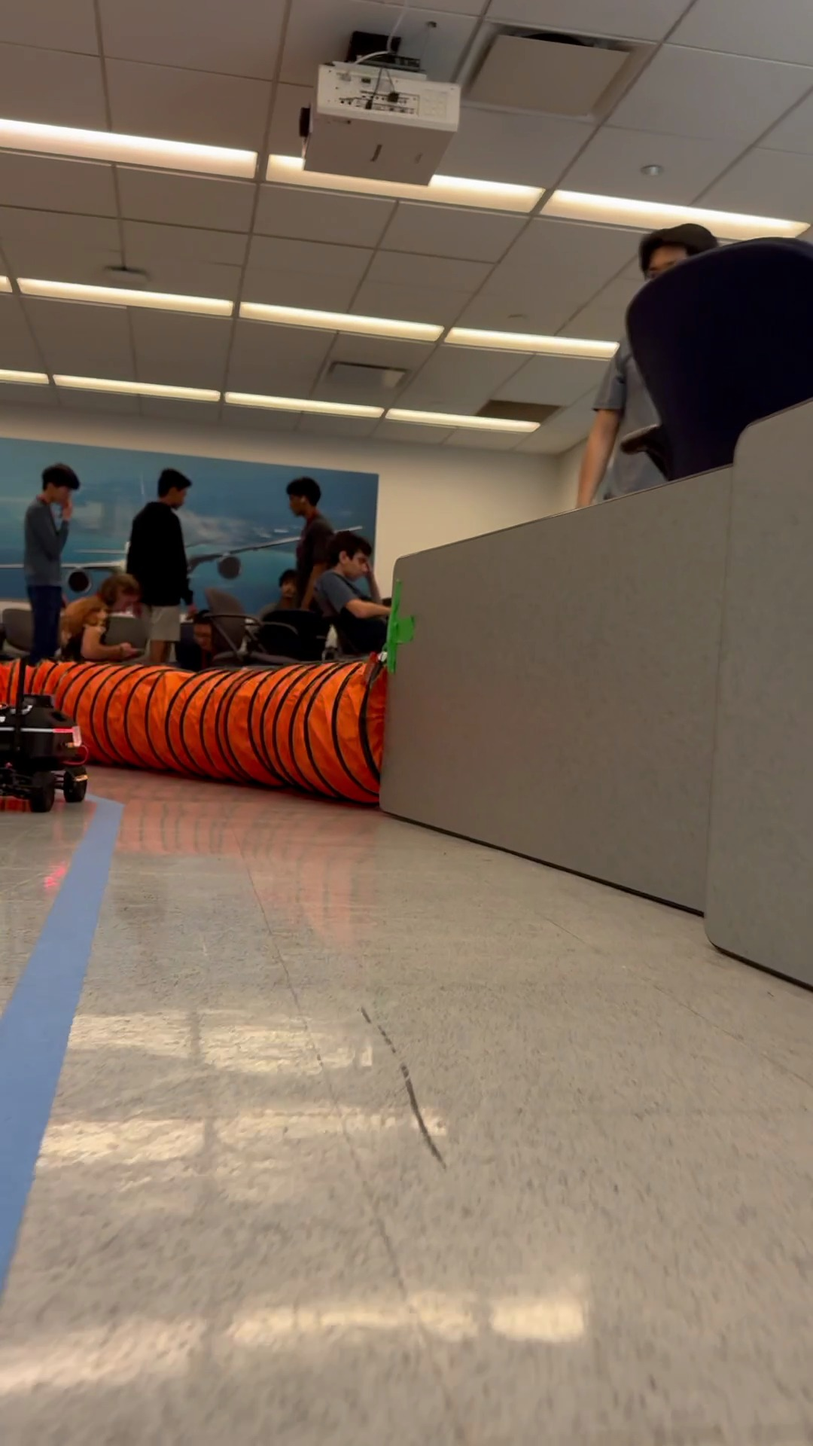racecar: (1, 678, 90, 813)
